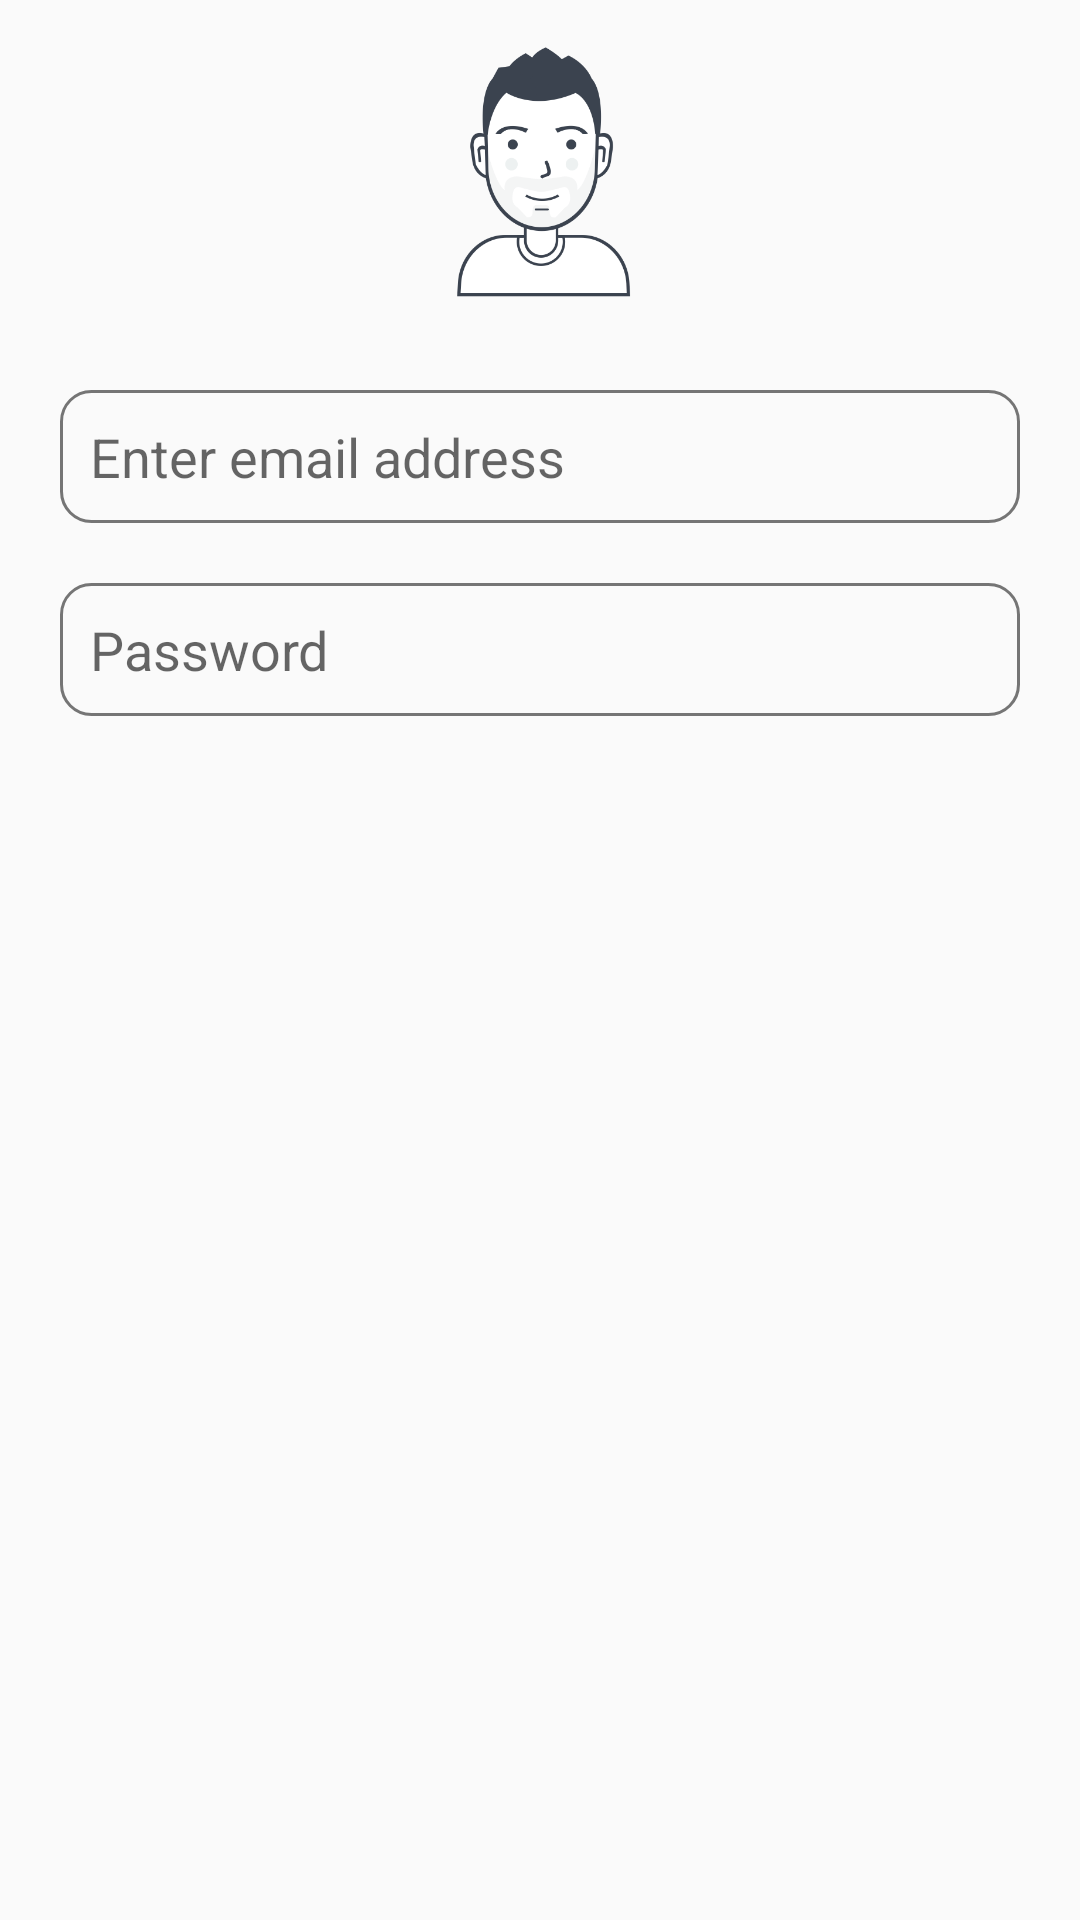

Named icons in this screenshot (1080px x 1920px) and their bounding boxes, (x1, y1, x2, y2):
userone: (457, 47, 630, 297)
